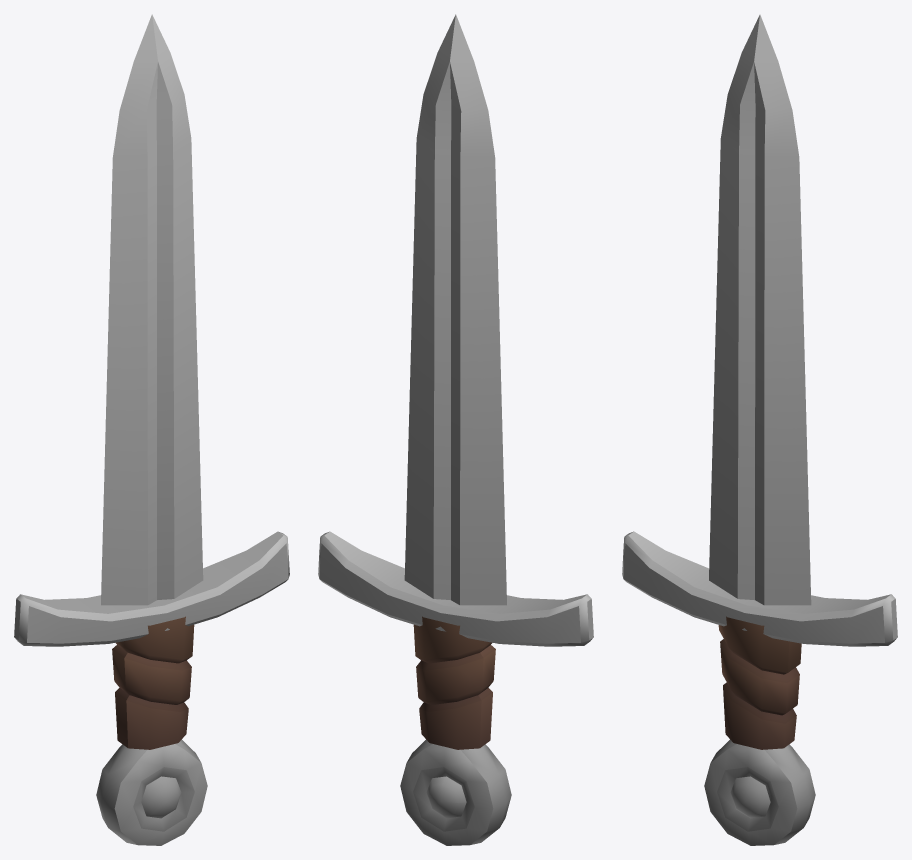
File: sword.glb
3 views of the same model, side by side, from view 1: azimuth 30°, elevation 25°; view 2: azimuth 150°, elevation 25°; view 3: azimuth 330°, elevation 25° (orthographic).
Parts seen in each view (by area): view 1: sword_B; view 2: sword_B; view 3: sword_B.
Boxes of the visible parts, bbox=[...] form: sword_B: bbox=[14, 14, 289, 845]; sword_B: bbox=[318, 14, 593, 845]; sword_B: bbox=[622, 14, 897, 845].
Bounding box in the file's own units: 0.6109 × 1.79 × 0.1212.
